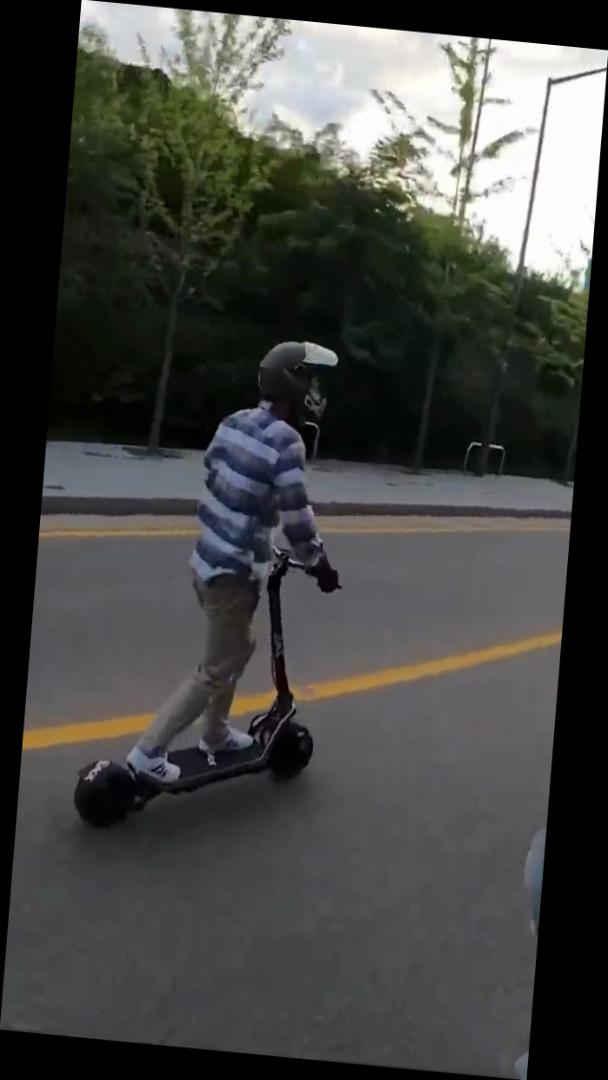helmet: (68, 319, 366, 853)
